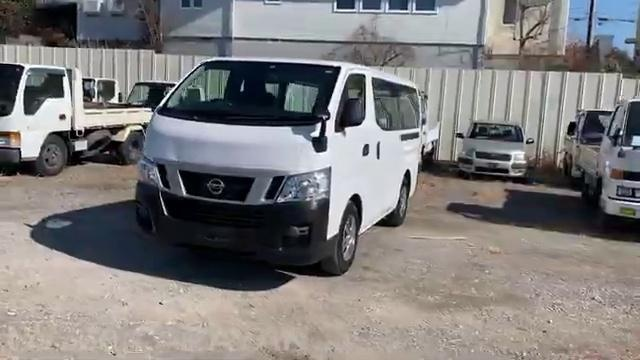van: (136, 57, 423, 270)
